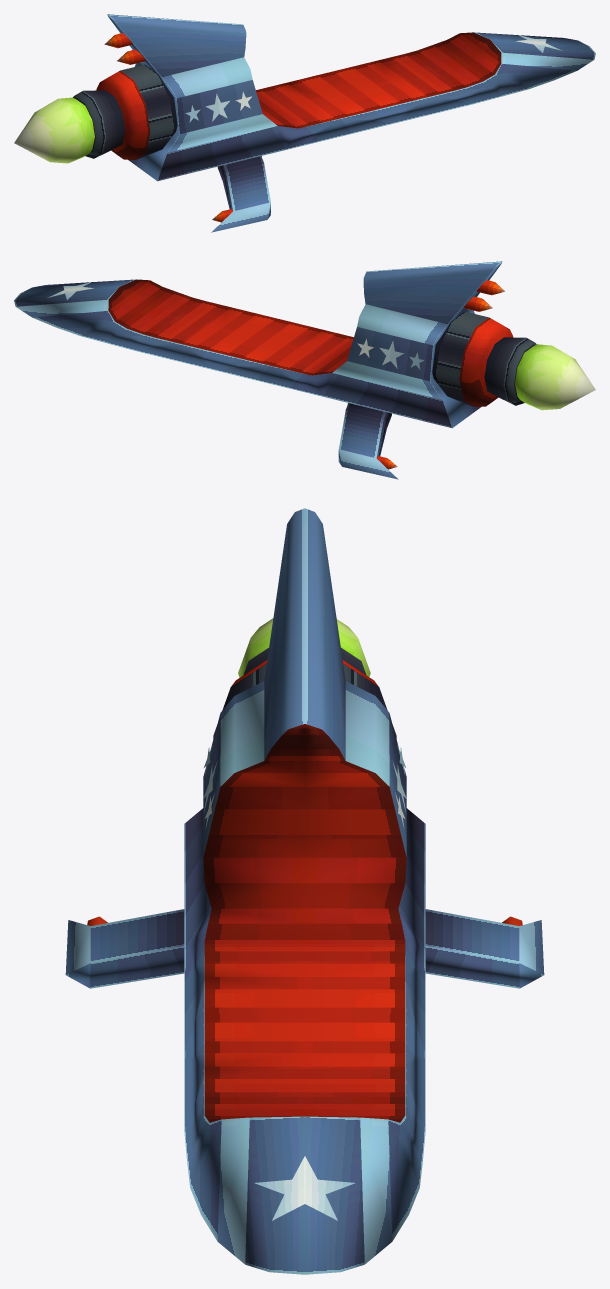
File: Daredevil.glb
3 renders of one model, top to bottom at view 1: azimuth 30°, elevation 25°; view 2: azimuth 150°, elevation 25°; view 3: azimuth 270°, elevation 25°, orthographic. The views are drawn at different scales.
Parts seen in each view (by area): view 1: Daredevil, daredevil_thruster; view 2: Daredevil, daredevil_thruster; view 3: Daredevil, daredevil_thruster.
Boxes of the visible parts, x1,y1,x2,y2 form: Daredevil: (73, 14, 595, 232); daredevil_thruster: (14, 97, 94, 163); Daredevil: (14, 261, 536, 479); daredevil_thruster: (515, 344, 595, 410); Daredevil: (65, 508, 544, 1274); daredevil_thruster: (238, 618, 370, 677).
Bounding box in the file's own units: 15.21 × 4.73 × 5.48.
2 materials, 2 textured.
